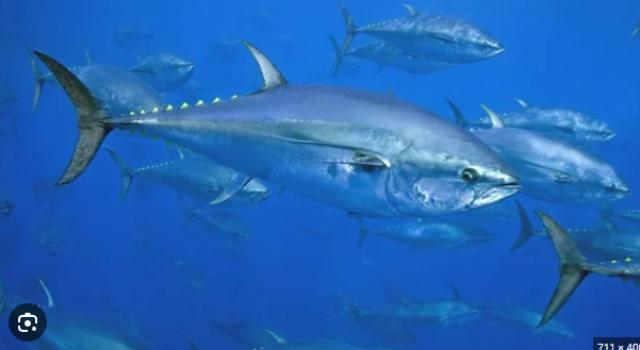Sirip Anal: (204, 156, 254, 212)
Sirip Dada: (306, 140, 392, 186), (427, 27, 463, 55)
Sirip Ekor: (505, 194, 535, 260)
Sirip Perut: (28, 42, 120, 194), (524, 201, 588, 337), (327, 0, 368, 72), (100, 141, 138, 211), (22, 49, 48, 117)
Sirip Punggung: (231, 28, 293, 105), (479, 100, 511, 142), (395, 0, 423, 22), (510, 88, 530, 115)
